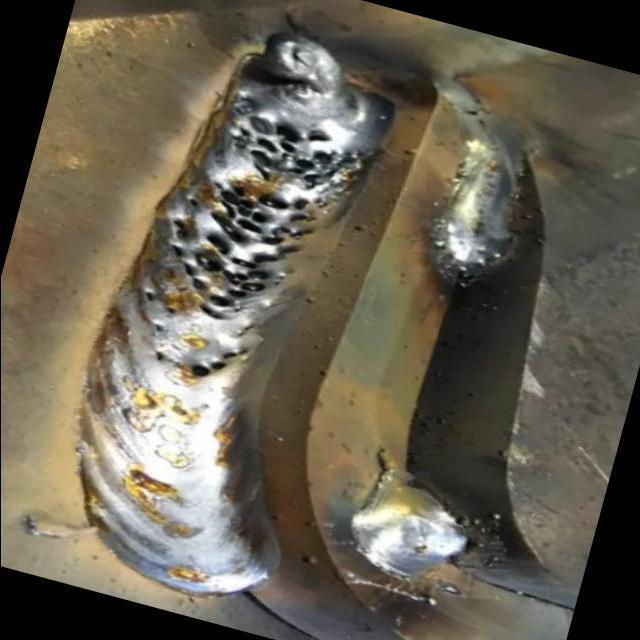defect: (163, 96, 382, 325), (182, 338, 254, 383), (148, 348, 173, 364), (142, 289, 157, 303), (150, 322, 167, 333), (163, 305, 178, 315)
